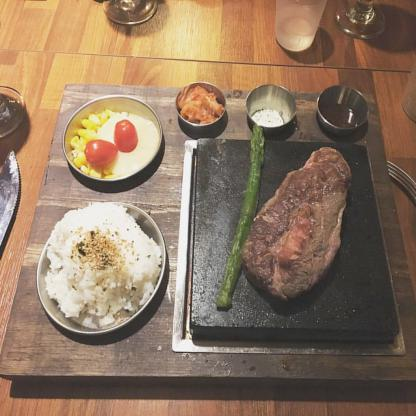Carne: (245, 147, 354, 292)
